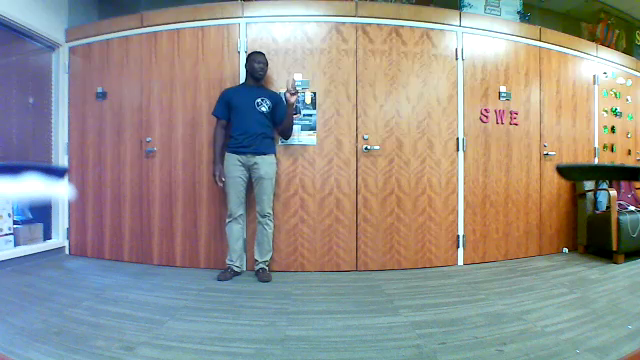peace: (281, 78, 300, 106)
